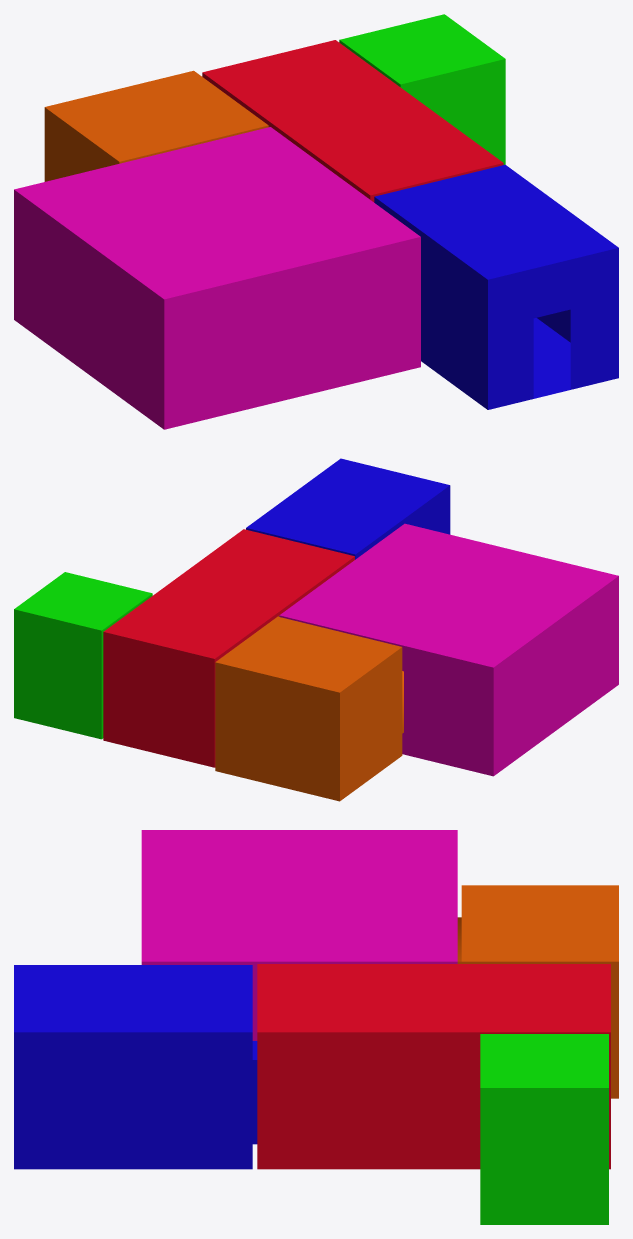
Rendered from psihushka 1.fbx.
The picture shows the model from 3 angles, top to bottom: view 1: azimuth 30°, elevation 25°; view 2: azimuth 150°, elevation 25°; view 3: azimuth 270°, elevation 25°; orthographic projection. The views are drawn at different scales.
Visible parts, largest first — view 1: Plane; view 2: Plane; view 3: Plane.
Part boxes in pixels (x1,y1,x2,y2): Plane: [14, 14, 618, 429]; Plane: [14, 458, 618, 801]; Plane: [14, 830, 618, 1224].
Bounding box in the file's own units: 1533 × 380 × 1520.
